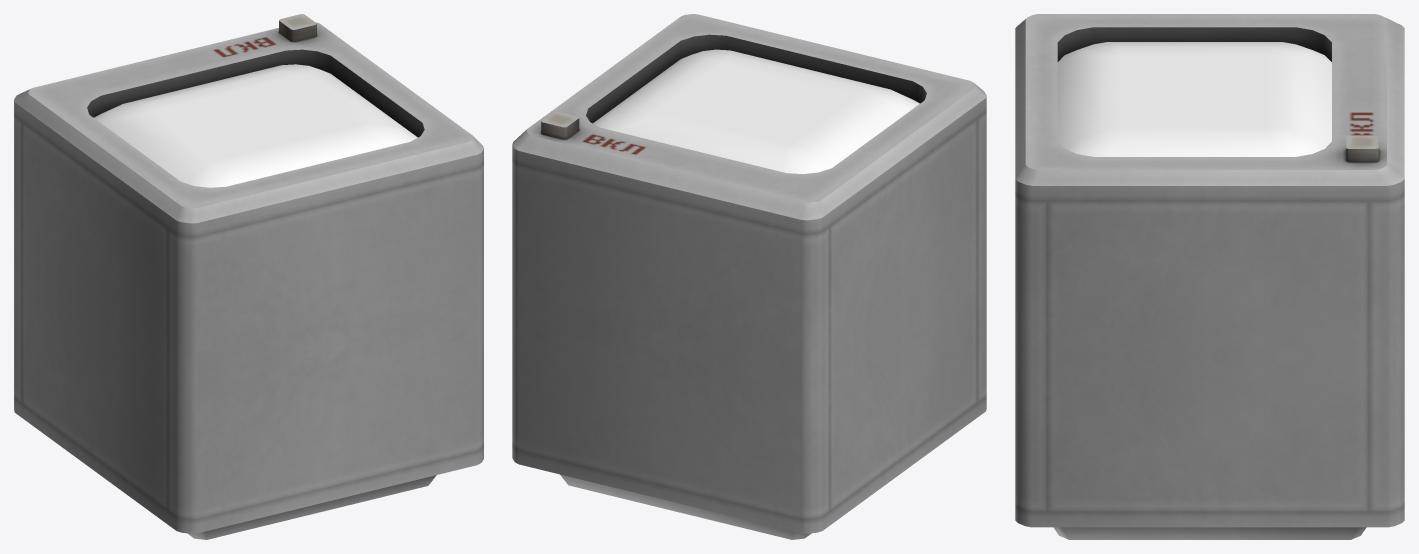
Rendered from monitor1.obj.
The picture shows the model from 3 angles, left to right: view 1: azimuth 30°, elevation 25°; view 2: azimuth 150°, elevation 25°; view 3: azimuth 270°, elevation 25°; orthographic projection. The views are drawn at different scales.
Visible parts, largest first — view 1: 1, glass; view 2: 1, glass; view 3: 1, glass.
Boxes of the visible parts, left/top/right/bottom form: 1: left=14, top=14, right=483, bottom=539; glass: left=94, top=64, right=417, bottom=187; 1: left=512, top=14, right=986, bottom=539; glass: left=593, top=49, right=919, bottom=173; 1: left=1015, top=14, right=1404, bottom=539; glass: left=1057, top=42, right=1331, bottom=156.
Bounding box in the file's own units: 0.2 × 0.2252 × 0.2.
Materials: 3 (1 with a texture image).
